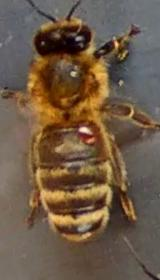varroa_mite: (64, 118, 118, 157)
